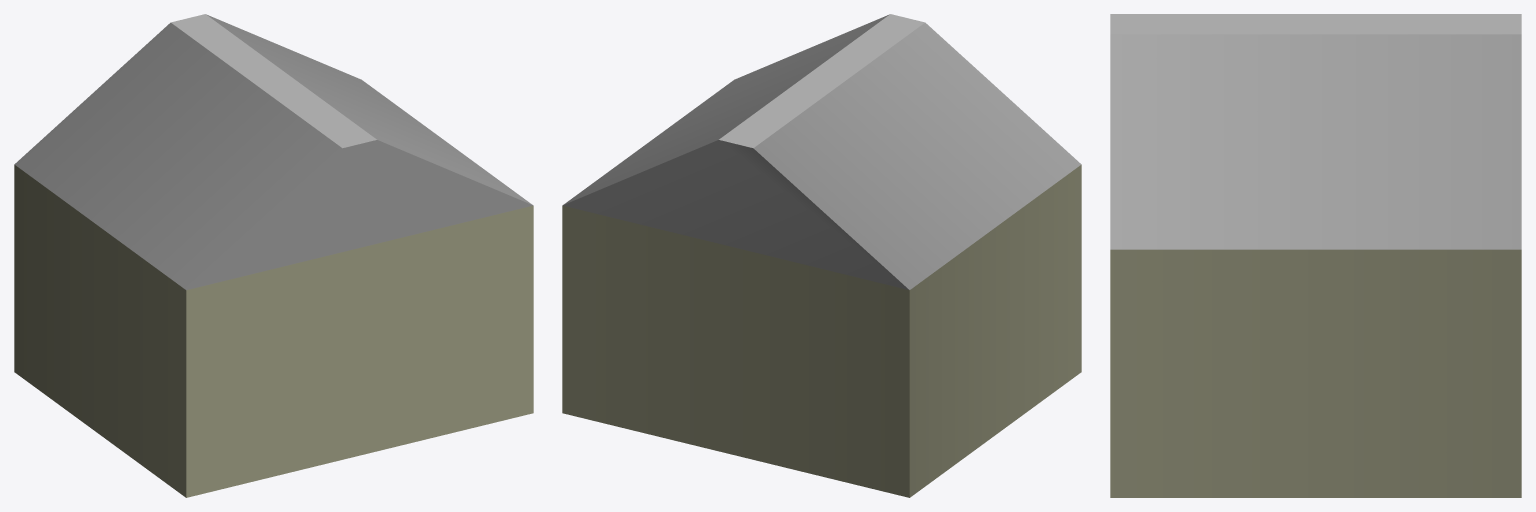
The model's file is hangar-alternate-low.glb.
3 views of the same model, side by side, from view 1: azimuth 30°, elevation 25°; view 2: azimuth 150°, elevation 25°; view 3: azimuth 270°, elevation 25° (orthographic). The views are drawn at different scales.
Parts seen in each view (by area): view 1: mesh0; view 2: mesh0; view 3: mesh0.
Part boxes in pixels (x1,y1,x2,y2): mesh0: (14,14,533,497); mesh0: (562,14,1081,497); mesh0: (1110,14,1521,497).
Size of the model in its own units: 0.7 by 0.6 by 0.6.
